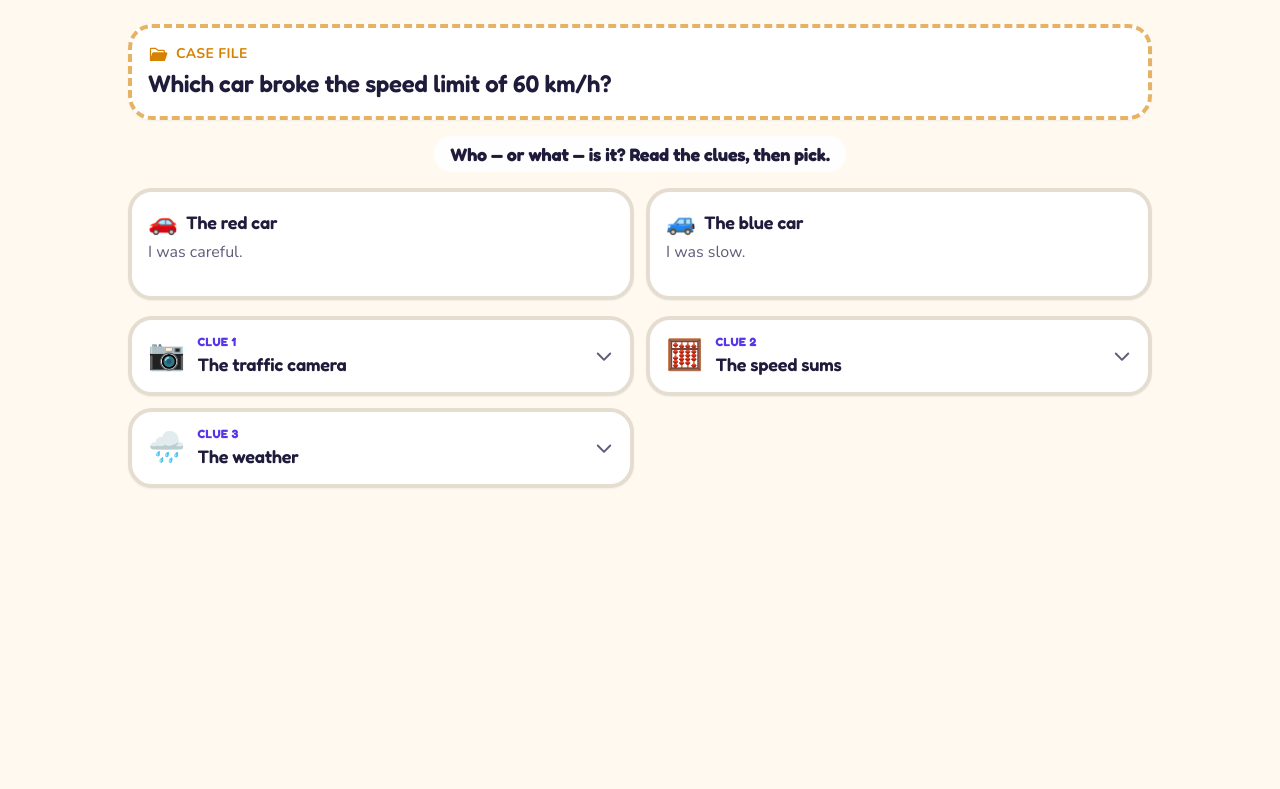
it: Detective Case › is solved by the right pick and then the clue that proves it
The image size is (1280, 789).
Click the button with aria-label "Pick The blue car": (754, 222) [646,188,1152,300]
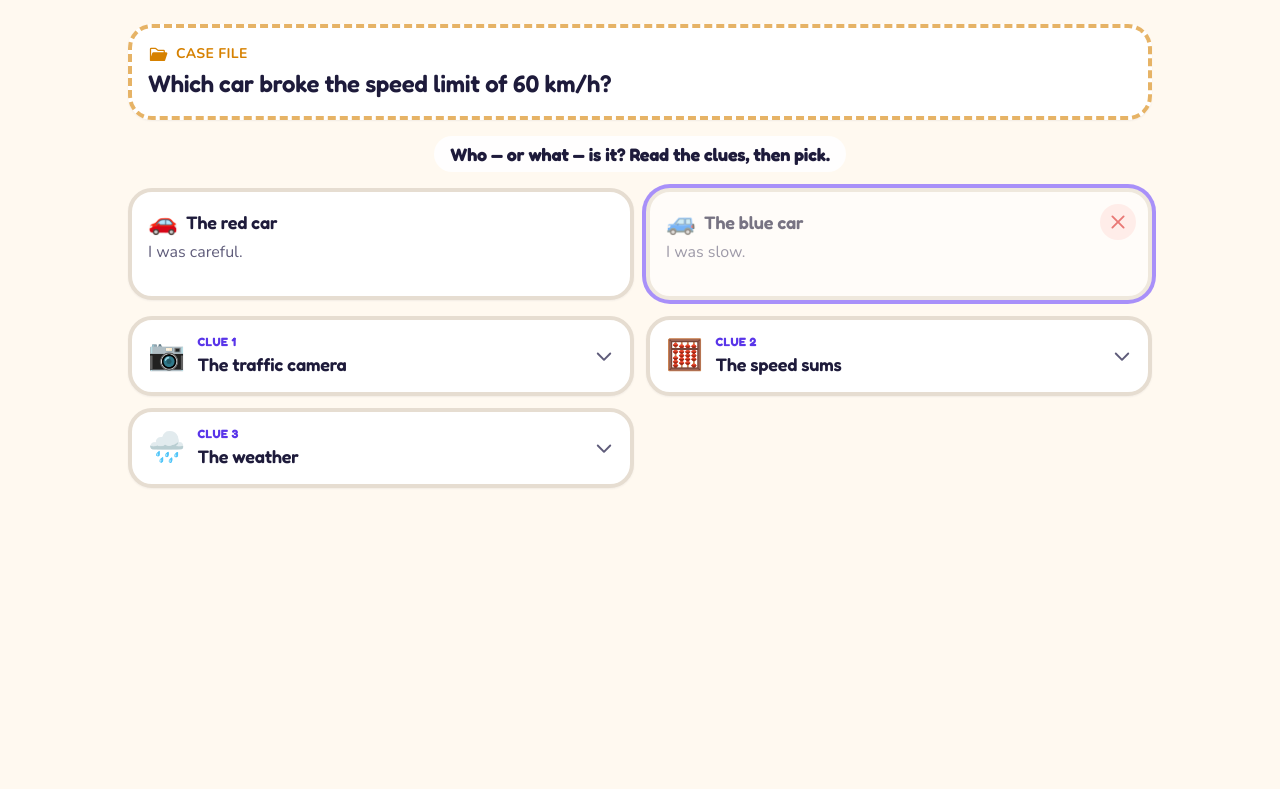
// A clue opens to its words and its table — headings and all.
Click the button "📷 Clue 1 The traffic camera": (167, 356) [144,332,618,380]
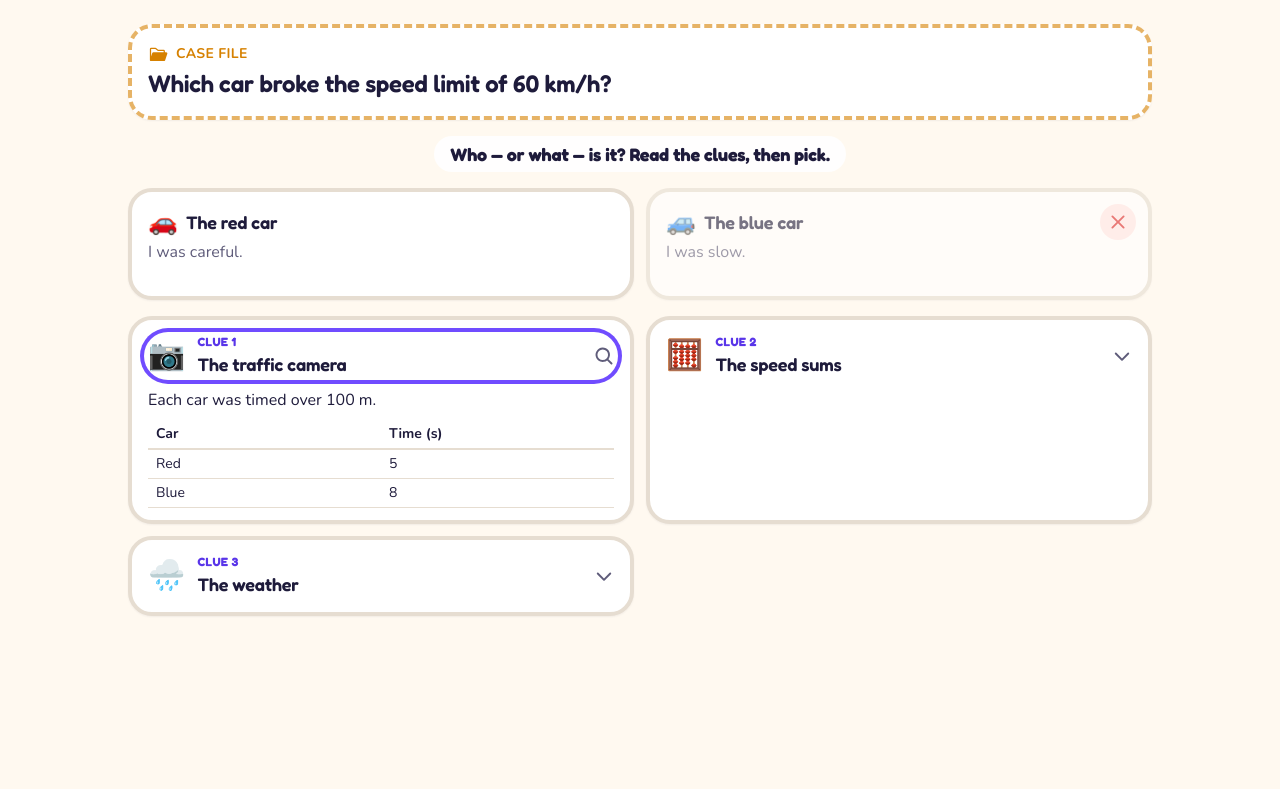
Expected: the column headings read "Car", "Time (s)", in this order, [148,420,381,449]; [381,420,614,449]
Expected: the number of rows is 3, [148,420,614,449]; [148,450,614,478]; [148,478,614,508]
Click the button with aria-label "Pick The red car": (232, 222) [128,188,634,300]
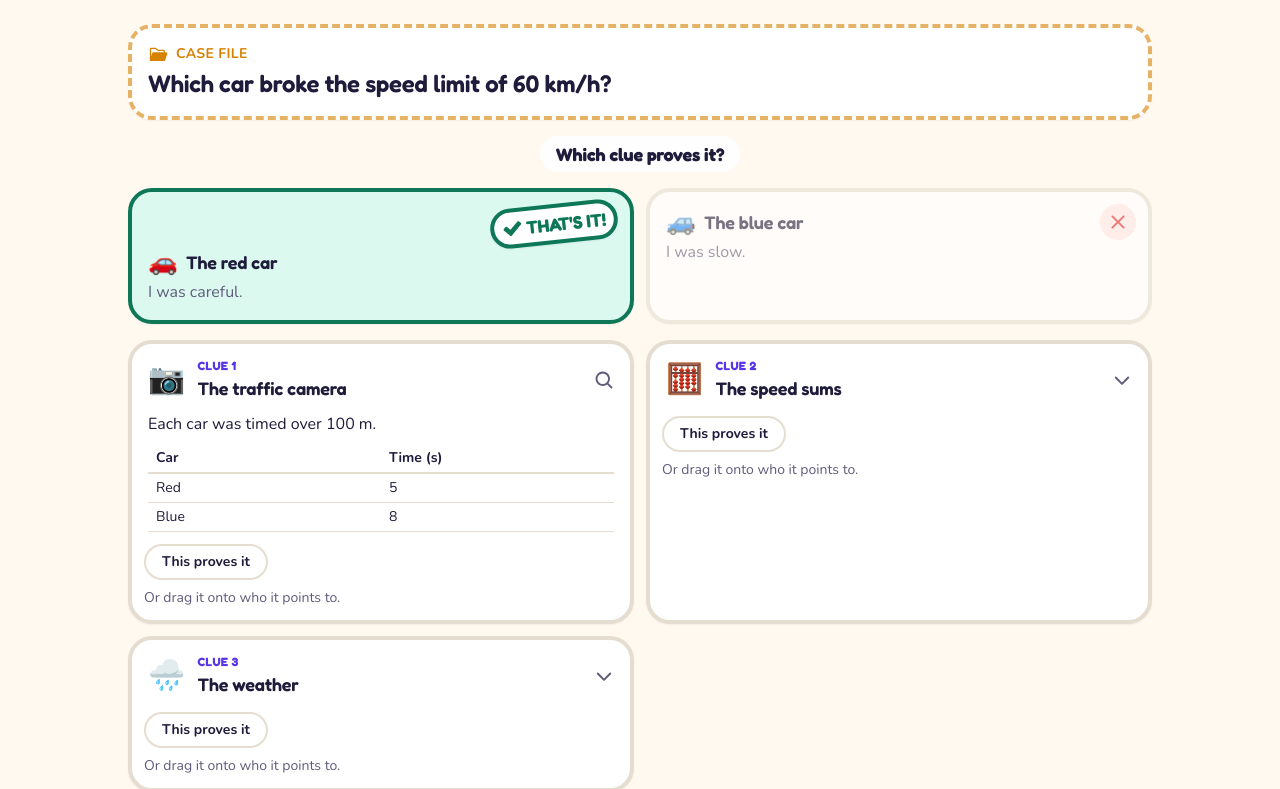
Expected: the text "Which clue proves it?" is shown, [540,136,740,172]
Expected: the button with aria-label "The red car: it is this one" is disabled, [128,188,634,324]
Click the button with aria-label "This clue proves it: The weather": (206, 730) [144,712,268,748]
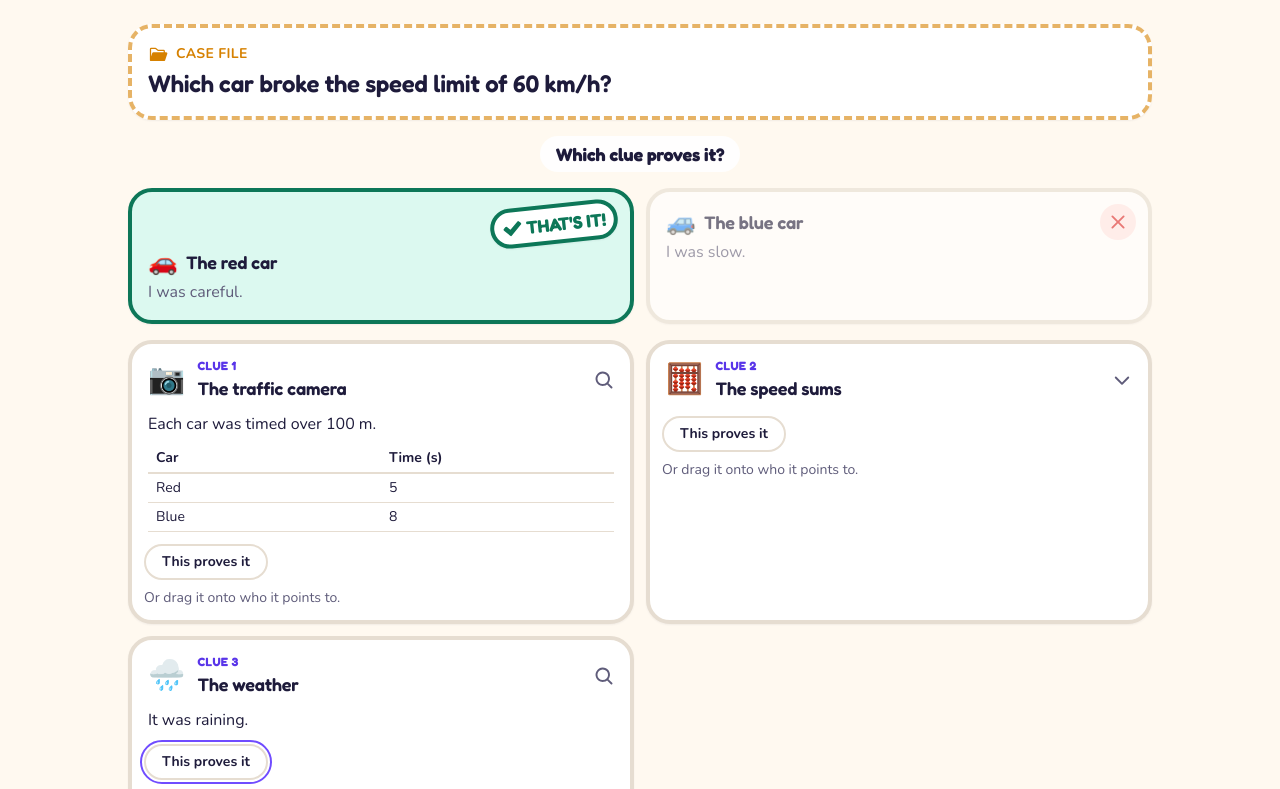
Click the button with aria-label "This clue proves it: The speed sums": (724, 434) [662,416,786,452]
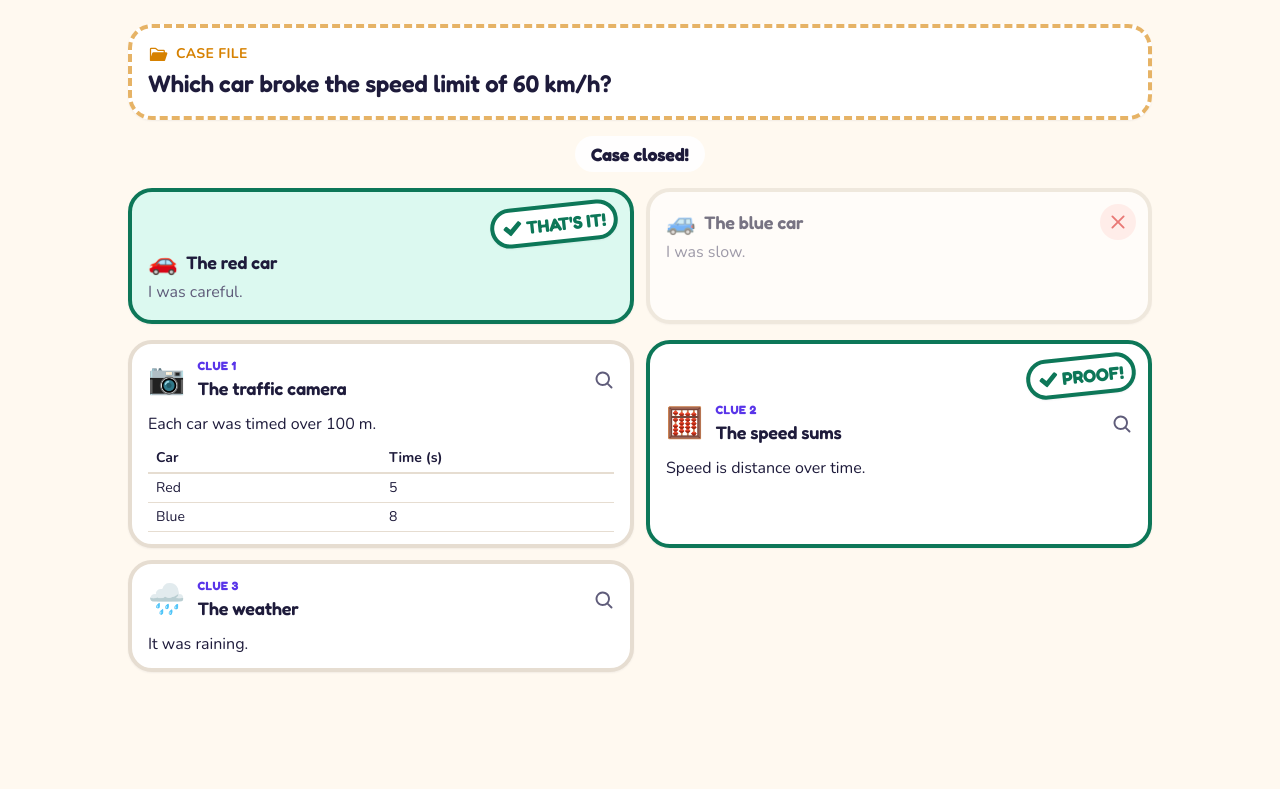
Expected: the text "Case closed!" is shown, [575,136,705,172]
